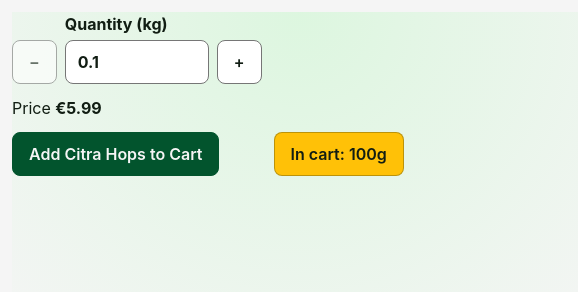
Scenario: ProductCartControl › refreshes after a failed add without turning a cart state into a stock gate
Replace the text in the field labelled "Quantity (kg)" with "0.2": (137, 62) x1=65 y1=40 x2=209 y2=84
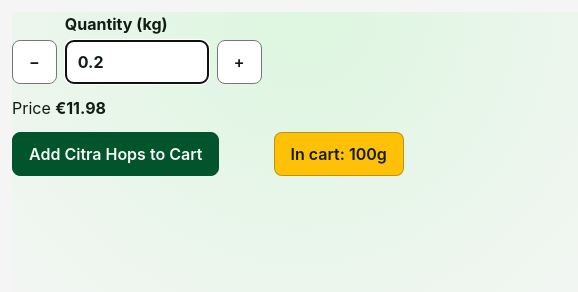
Click the button "Add Citra Hops to Cart": (116, 154) x1=12 y1=132 x2=220 y2=176
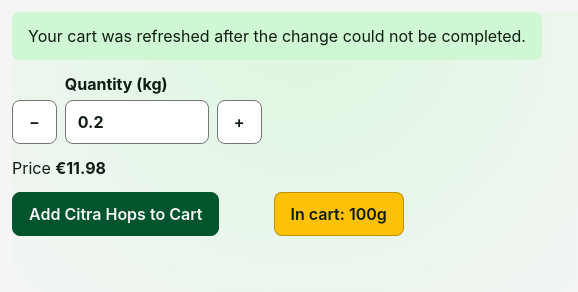
Expected: the field labelled "Quantity (kg)" is enabled, x1=65 y1=100 x2=209 y2=144
Now the text "Your cart was refreshed after the change could not be completed." is shown, box x1=12 y1=12 x2=542 y2=60
